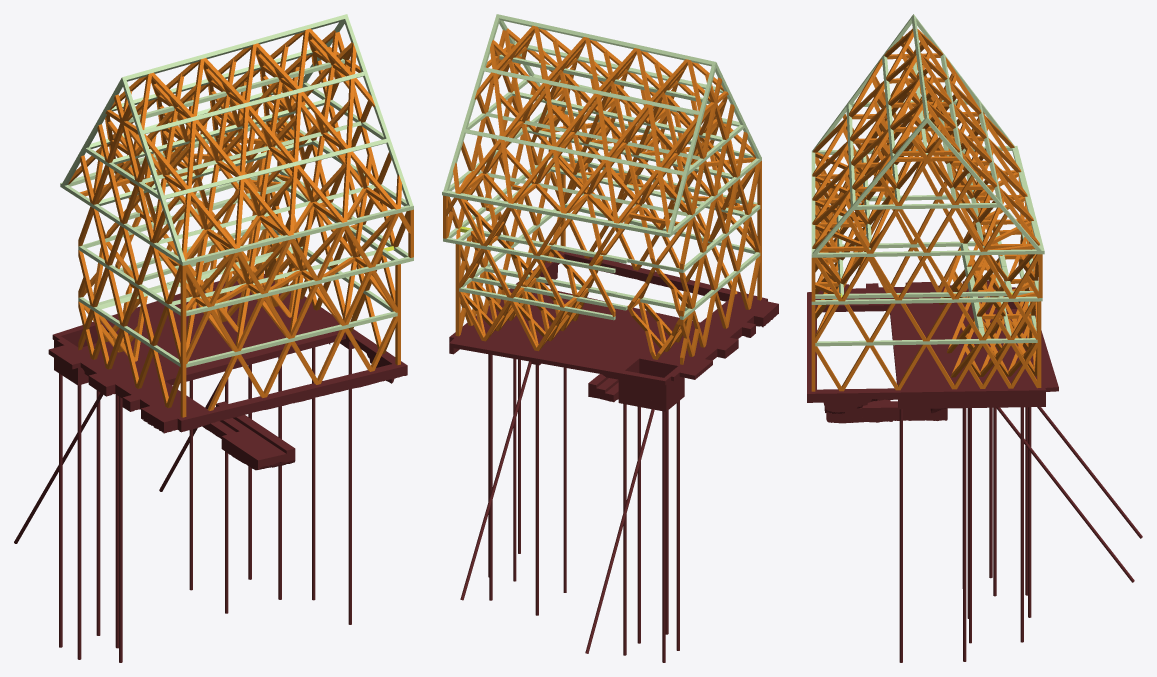
The model's file is buildWithoutGround.glb.
3 renders of one model, left to right at view 1: azimuth 30°, elevation 25°; view 2: azimuth 150°, elevation 25°; view 3: azimuth 270°, elevation 25°, orthographic. The views are drawn at different scales.
Parts seen in each view (by area): view 1: OAR_3D Model_R1; view 2: OAR_3D Model_R1; view 3: OAR_3D Model_R1.
Part boxes in pixels (<box>): OAR_3D Model_R1: <box>14,14,413,662</box>; OAR_3D Model_R1: <box>442,14,778,662</box>; OAR_3D Model_R1: <box>807,14,1142,662</box>.
Size of the model in its own units: 15.11 by 33.85 by 18.24.
